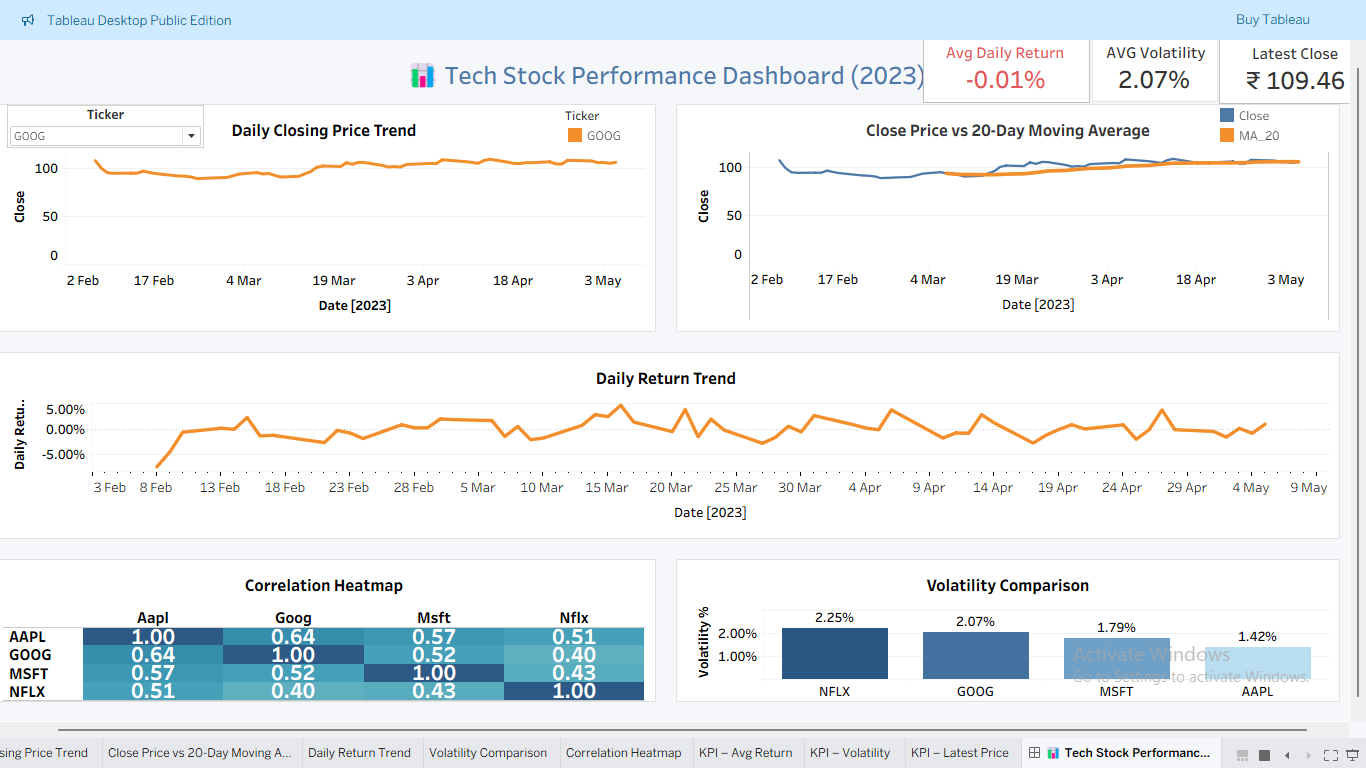

This screenshot's page, from the dashboard's own definition file:
{"tool":"tableau","page":{"name":"📊 Tech Stock Performance Dashboard (2023)","canvas":[1000,1000],"units":"permille","ordinal":0},"visuals":[{"type":"worksheet","title":"KPI – Avg Return","mark":"Automatic","box":[681,11.4,119,95.7]},{"type":"worksheet","title":"KPI – Volatility ","mark":"Automatic","box":[800,12.9,88.7,94.3]},{"type":"title","box":[18.3,37.1,963.4,57.1]},{"type":"worksheet","title":"Daily Closing Price Trend","mark":"Line","rows":["Close"],"cols":["Date"],"box":[18.3,94.3,481.7,354.3]},{"type":"worksheet","title":"Close Price vs 20-Day Moving Average","mark":"Line","rows":["Close","MA_20"],"cols":["Date"],"box":[500,94.3,481.7,354.3]},{"type":"filter","title":"Close Price vs 20-Day Moving Average","param":"[federated.06obs0t0fifz5q1c4ge5w0dly3rs].[none:Ticker:nk]","box":[50,110,138.7,61.4]},{"type":"legend","title":"Close Price vs 20-Day Moving Average","param":"[federated.06obs0t0fifz5q1c4ge5w0dly3rs].[:Measure Names]","box":[888,110,85.9,58.6]},{"type":"legend","title":"Daily Closing Price Trend","param":"[federated.06obs0t0fifz5q1c4ge5w0dly3rs].[none:Ticker:nk]","box":[428.9,112.9,65.5,55.7]},{"type":"worksheet","title":"Daily Return Trend","mark":"Line","rows":["Daily_Return"],"cols":["Date"],"box":[18.3,448.6,963.4,295.7]},{"type":"worksheet","title":"Correlation Heatmap","mark":"Square","rows":["Ticker"],"cols":["Pivot Field Names"],"box":[18.3,744.3,481.7,218.6]},{"type":"worksheet","title":"Volatility Comparison","mark":"Bar","rows":["Calculation_1467336325128192"],"cols":["Ticker"],"box":[500,744.3,481.7,218.6]}]}

Visuals, with their boxes on the dashboard's canvas, which has no fixed pixel size, in thousandths of its width and height (x1, y1, x2, y2). These are canvas units, not pixel positions in the 1366x768 screenshot, which may show the page scaled, cropped or inside an application window:
"KPI – Avg Return" worksheet: x1=681 y1=11 x2=800 y2=107
"KPI – Volatility " worksheet: x1=800 y1=13 x2=889 y2=107
title: x1=18 y1=37 x2=982 y2=94
"Daily Closing Price Trend" worksheet (Line marks): x1=18 y1=94 x2=500 y2=449
"Close Price vs 20-Day Moving Average" worksheet (Line marks): x1=500 y1=94 x2=982 y2=449
"Close Price vs 20-Day Moving Average" filter: x1=50 y1=110 x2=189 y2=171
"Close Price vs 20-Day Moving Average" legend: x1=888 y1=110 x2=974 y2=169
"Daily Closing Price Trend" legend: x1=429 y1=113 x2=494 y2=169
"Daily Return Trend" worksheet (Line marks): x1=18 y1=449 x2=982 y2=744
"Correlation Heatmap" worksheet (Square marks): x1=18 y1=744 x2=500 y2=963
"Volatility Comparison" worksheet (Bar marks): x1=500 y1=744 x2=982 y2=963
